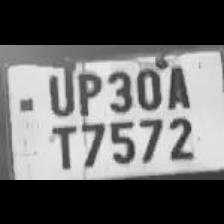0: (132, 64, 162, 110)
2: (163, 111, 195, 160)
3: (104, 65, 132, 112)
5: (106, 116, 136, 164)
7: (134, 113, 164, 163), (76, 117, 104, 169)
A: (162, 62, 194, 110)
P: (74, 65, 102, 115)
T: (43, 119, 77, 171)
U: (42, 64, 76, 116)
